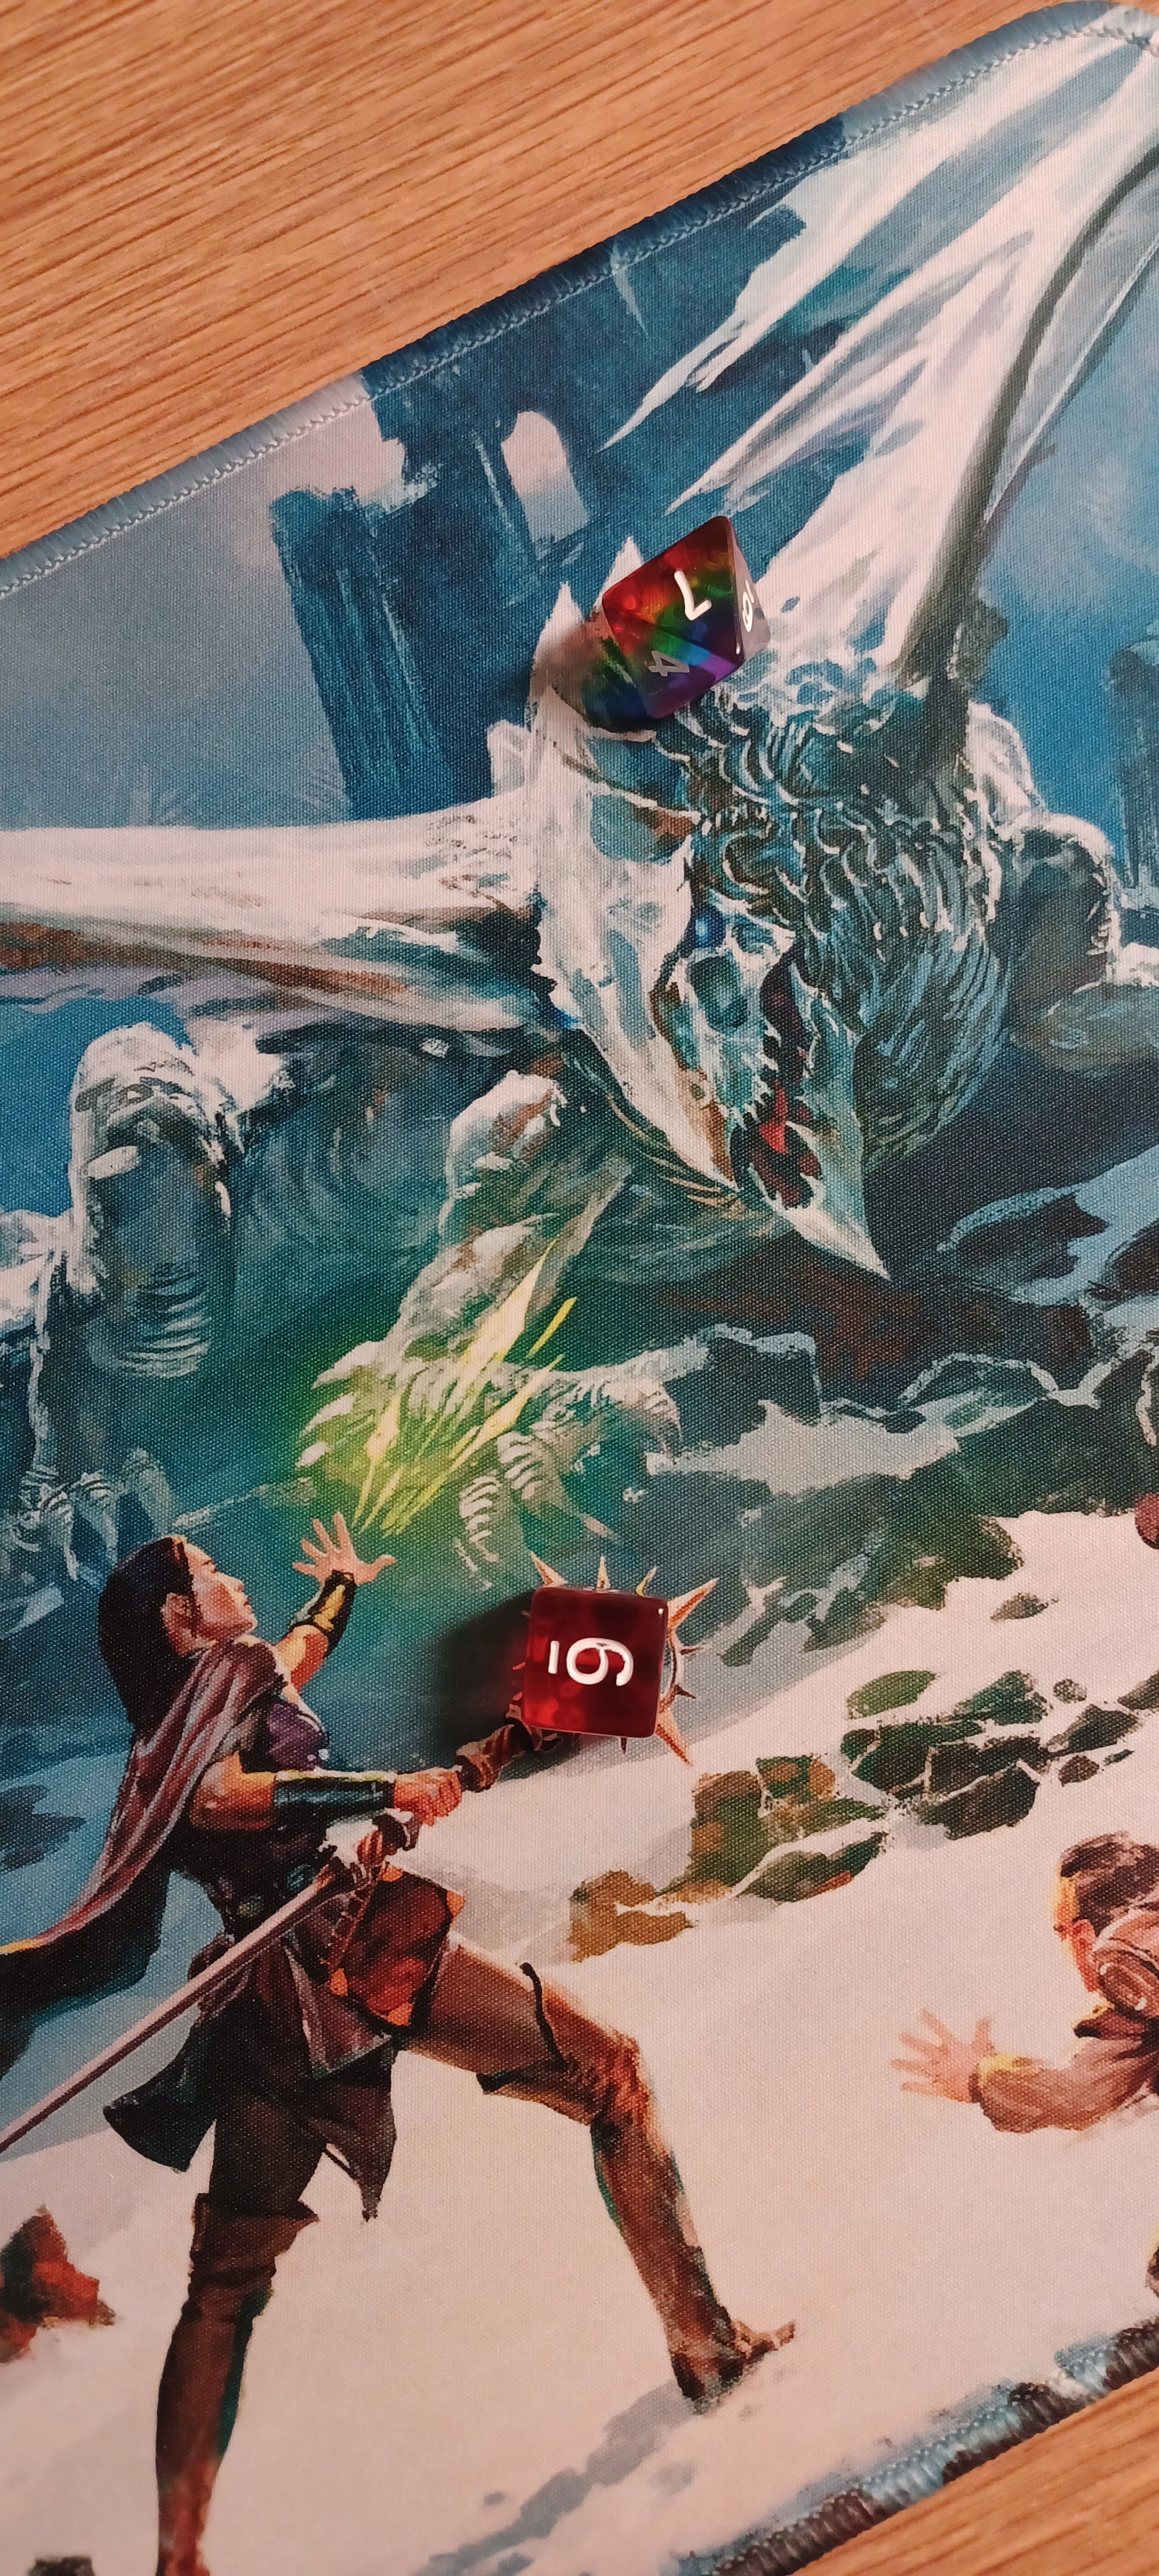seven: (573, 478, 799, 724)
six: (478, 1551, 704, 1786)
